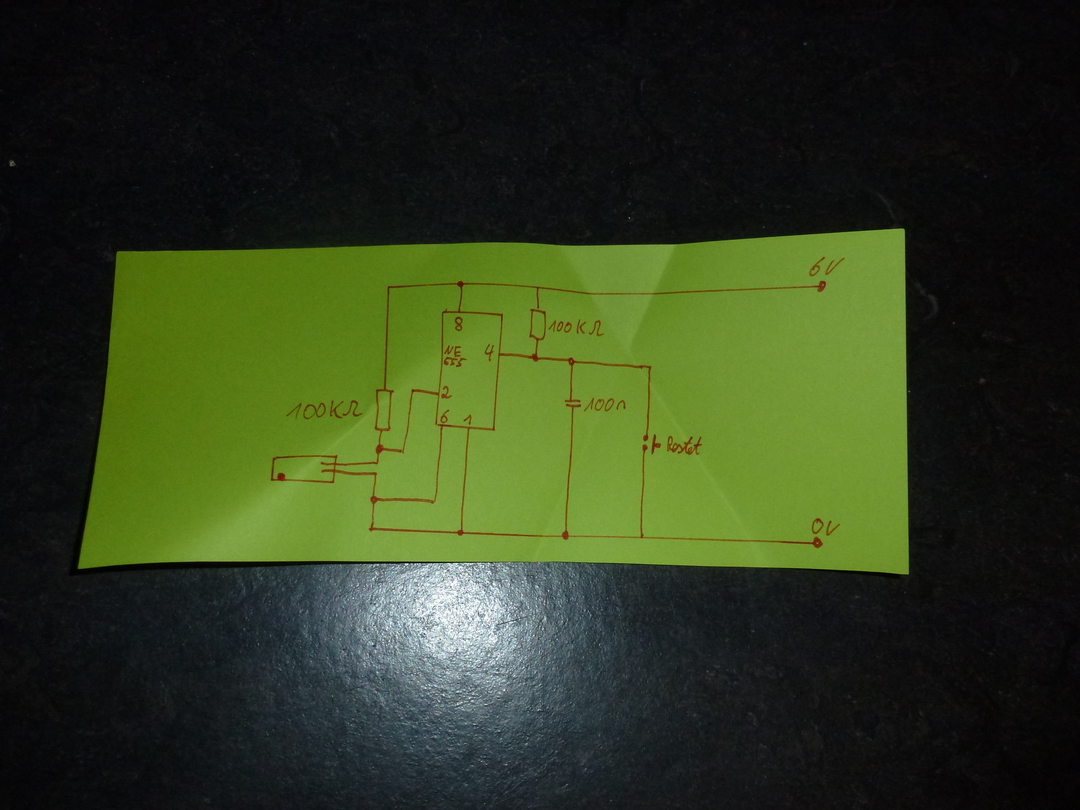capacitor.unpolarized: (563, 396, 583, 412)
integrated_cricuit.ne555: (434, 309, 505, 433)
junction: (560, 529, 572, 542), (368, 493, 379, 506), (566, 355, 577, 367), (530, 352, 541, 364), (375, 443, 385, 454), (456, 279, 466, 290), (455, 527, 465, 537), (367, 524, 377, 534), (429, 496, 438, 506), (646, 363, 655, 372), (638, 532, 646, 541), (372, 470, 380, 478), (385, 284, 393, 292), (534, 284, 542, 292), (410, 387, 417, 395), (374, 459, 381, 466), (399, 447, 406, 454)
resistor: (373, 387, 394, 434), (528, 306, 547, 342)
switch: (270, 453, 338, 485), (641, 433, 662, 455)
terminal: (814, 279, 829, 294), (810, 536, 824, 550)
text: (285, 400, 363, 421), (548, 319, 604, 337), (666, 435, 703, 456), (808, 256, 845, 277), (584, 397, 627, 413), (443, 344, 467, 368), (811, 517, 841, 536), (483, 343, 497, 362), (454, 315, 465, 332), (441, 385, 453, 399), (439, 409, 450, 424), (463, 413, 474, 427)
